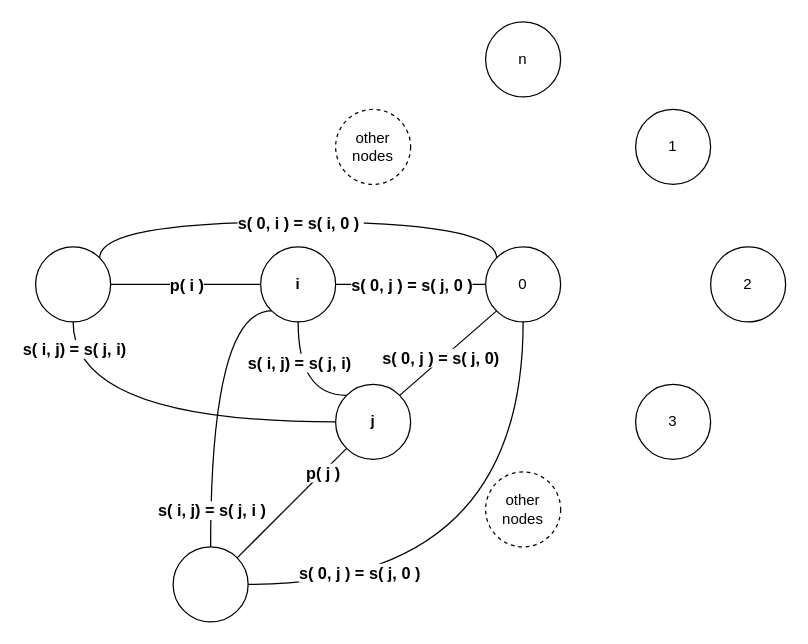
This 808x644 diagram has some shape labels left out. Each missing label, with the centre of its shape:
"i'" goes at (x=72, y=284).
"j'" goes at (x=210, y=584).
